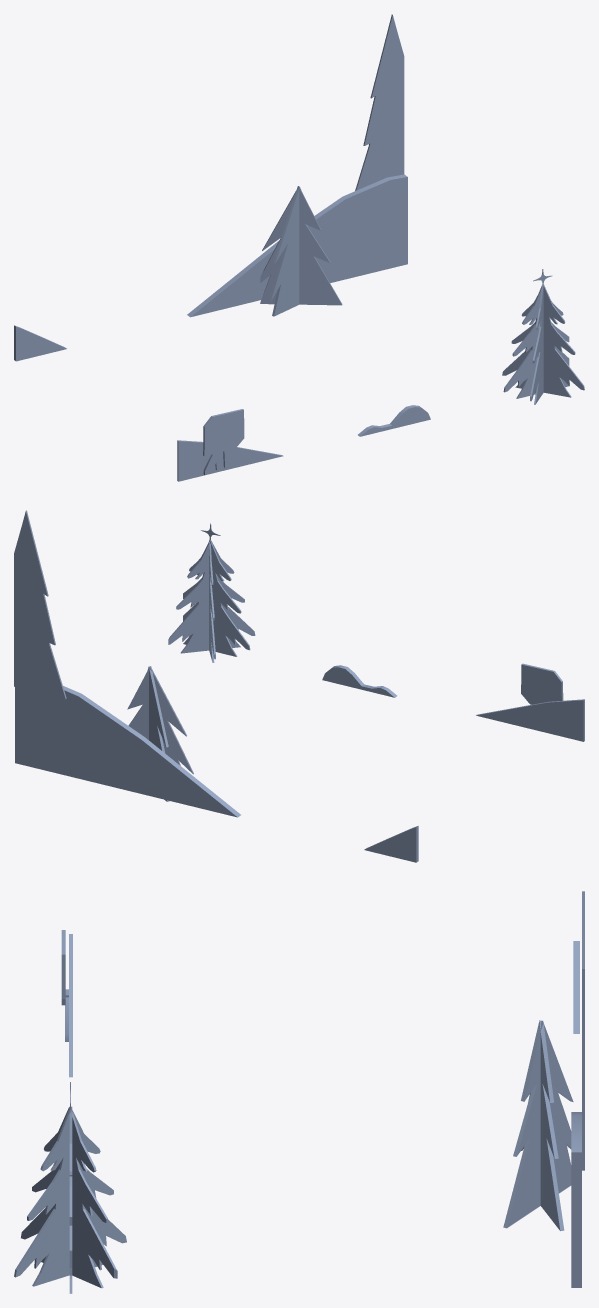
The model's file is frame_0058.glb.
The picture shows the model from 3 angles, top to bottom: view 1: azimuth 30°, elevation 25°; view 2: azimuth 150°, elevation 25°; view 3: azimuth 270°, elevation 25°; orthographic projection. The views are drawn at different scales.
Visible parts, largest first — view 1: export_trees_001.002; view 2: export_trees_001.002; view 3: export_trees_001.002.
Part boxes in pixels (bbox=[...]): export_trees_001.002: bbox=[14, 14, 584, 481]; export_trees_001.002: bbox=[14, 510, 584, 862]; export_trees_001.002: bbox=[14, 891, 584, 1293].
Bounding box in the file's own units: 0.4327 × 0.2681 × 0.3523.
